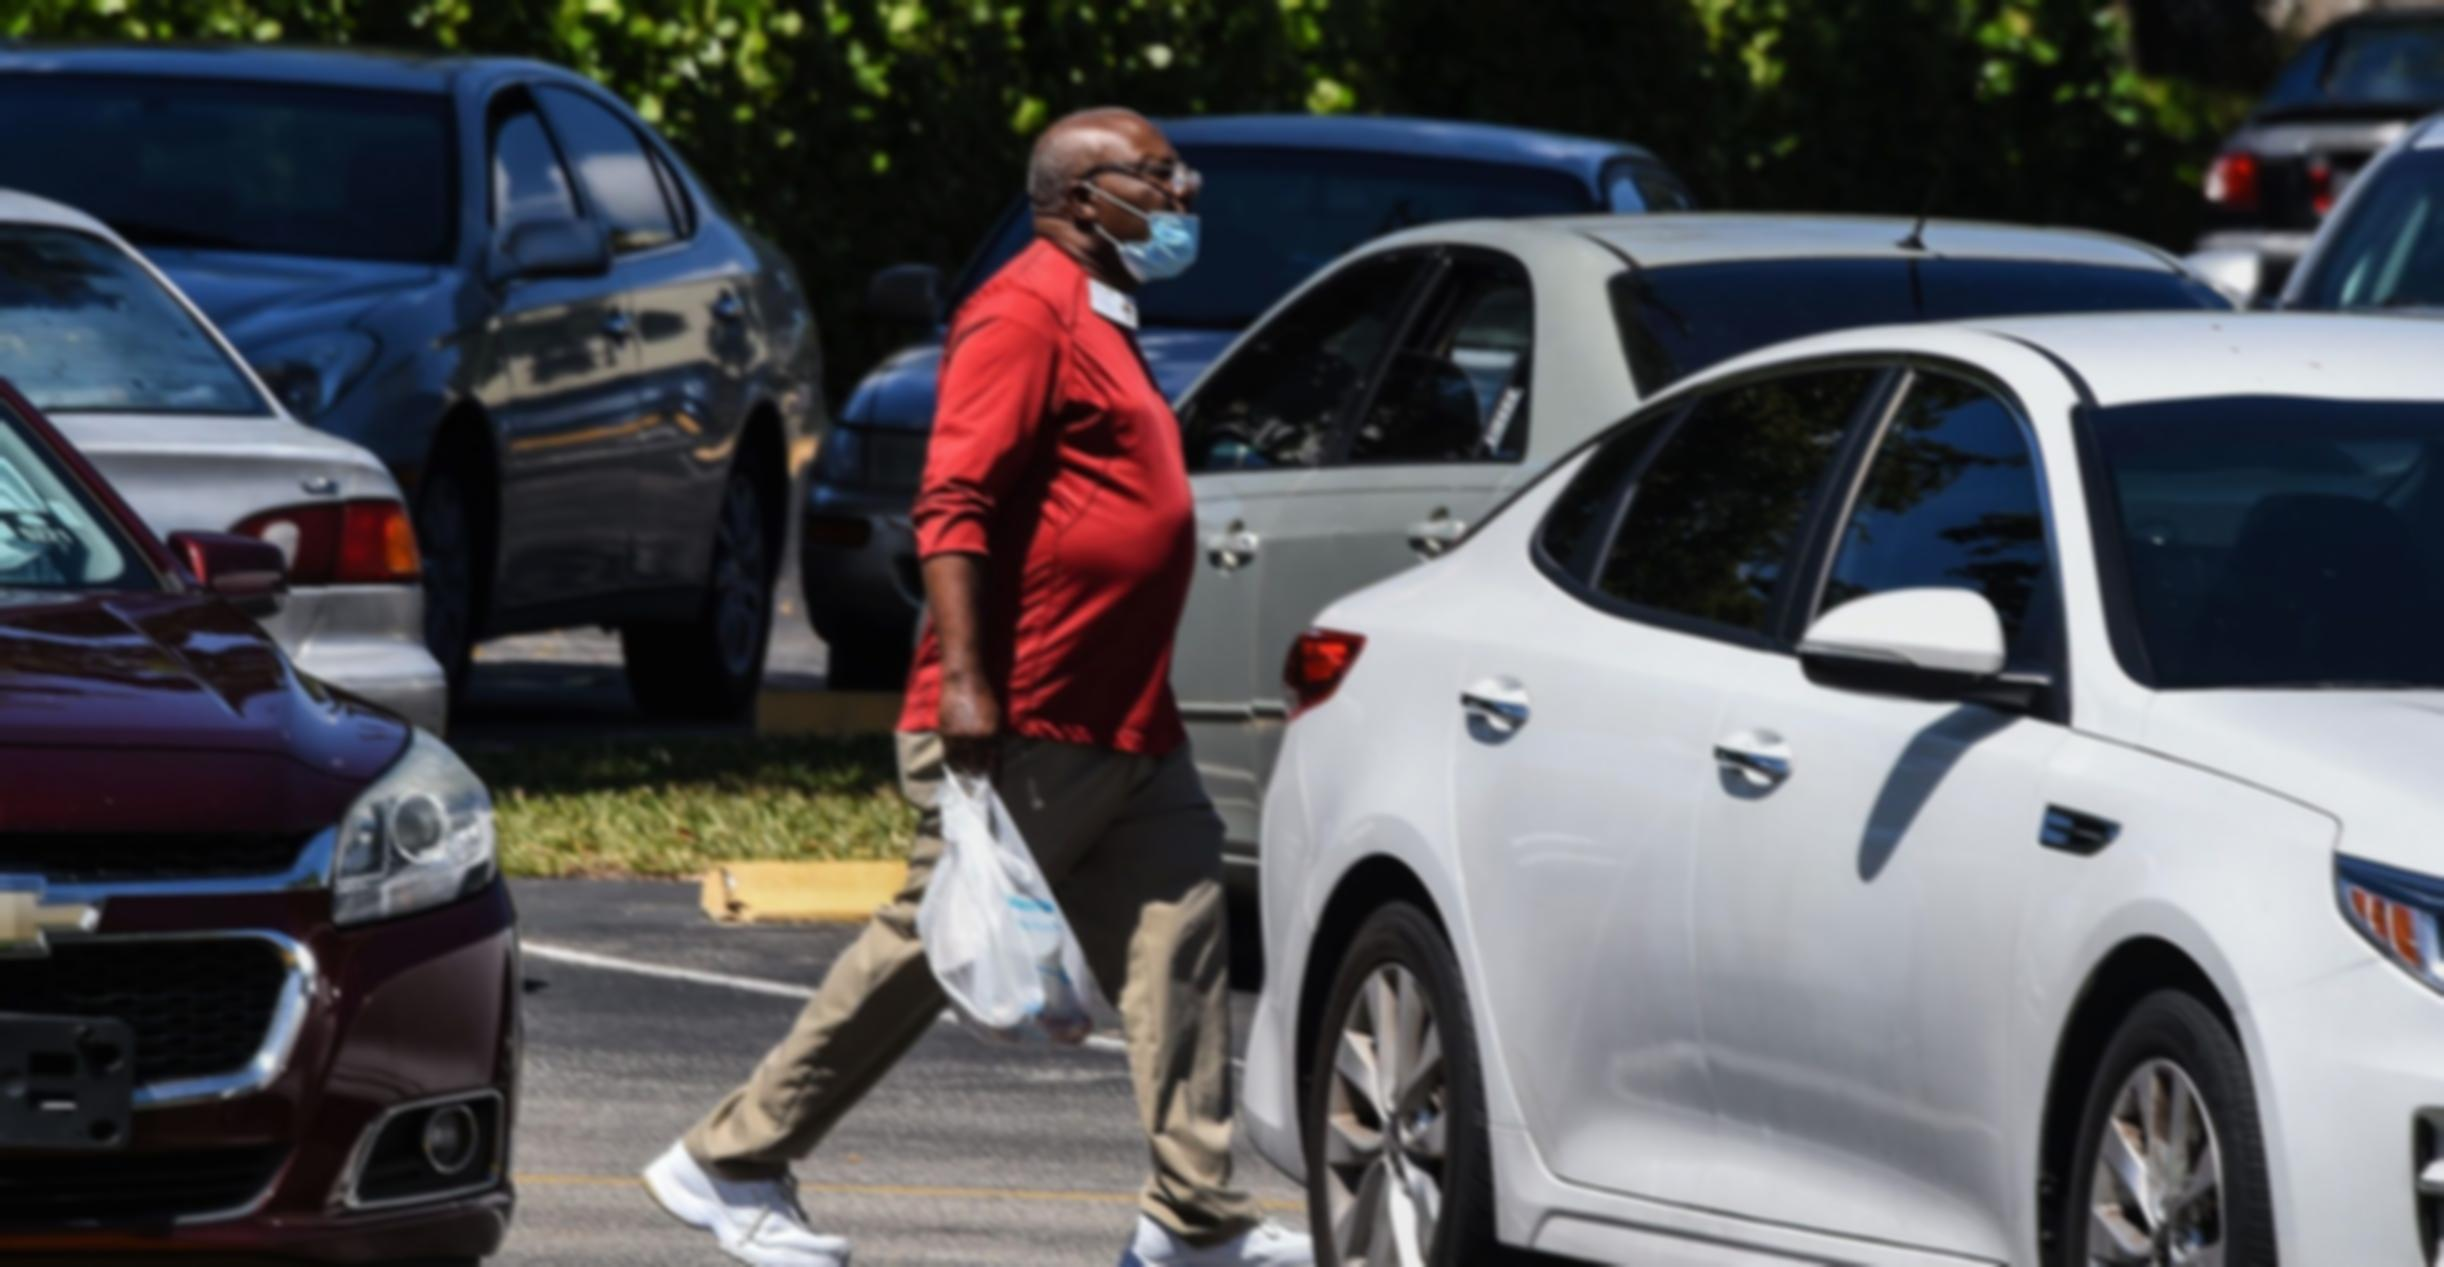mask_weared_incorrect: (1049, 98, 1235, 318), (1015, 106, 1209, 295)
